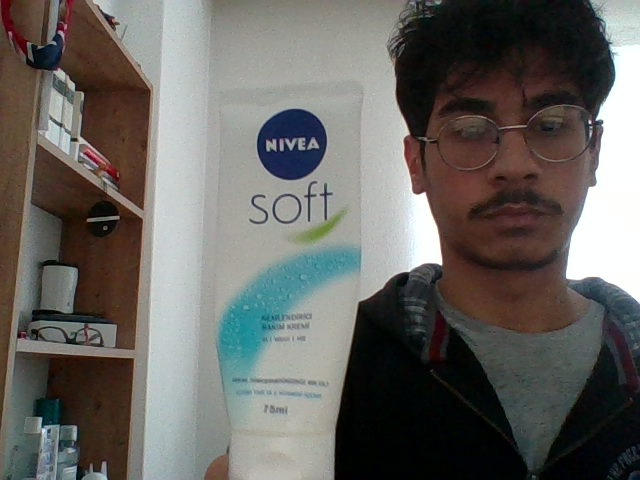NiveaSoft: (215, 90, 364, 434)
